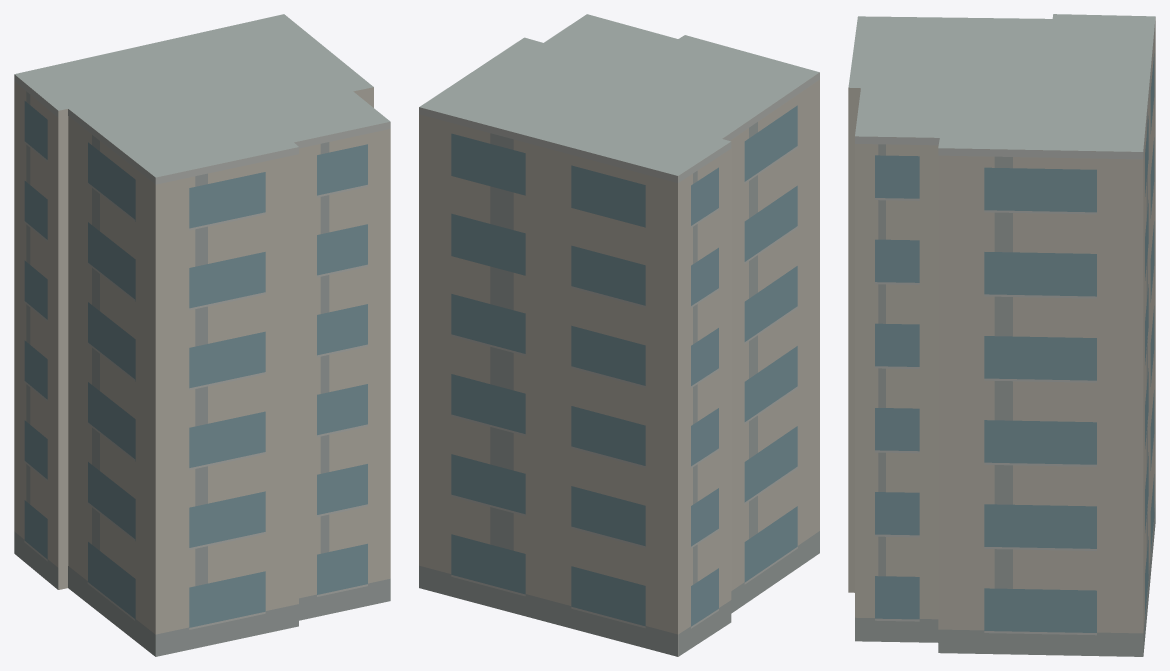
File: survey-upis-32775150.glb
3 renders of one model, left to right at view 1: azimuth 30°, elevation 25°; view 2: azimuth 150°, elevation 25°; view 3: azimuth 270°, elevation 25°, orthographic. The views are drawn at different scales.
Visible parts, largest first — view 1: survey-upis-32775150.tmp; view 2: survey-upis-32775150.tmp; view 3: survey-upis-32775150.tmp.
Part boxes in pixels (box(x1,y1,x2,y2)): survey-upis-32775150.tmp: box(14, 14, 390, 656); survey-upis-32775150.tmp: box(419, 14, 819, 656); survey-upis-32775150.tmp: box(848, 14, 1155, 656).
Size of the model in its own units: 9.68 by 16.5 by 9.11.
